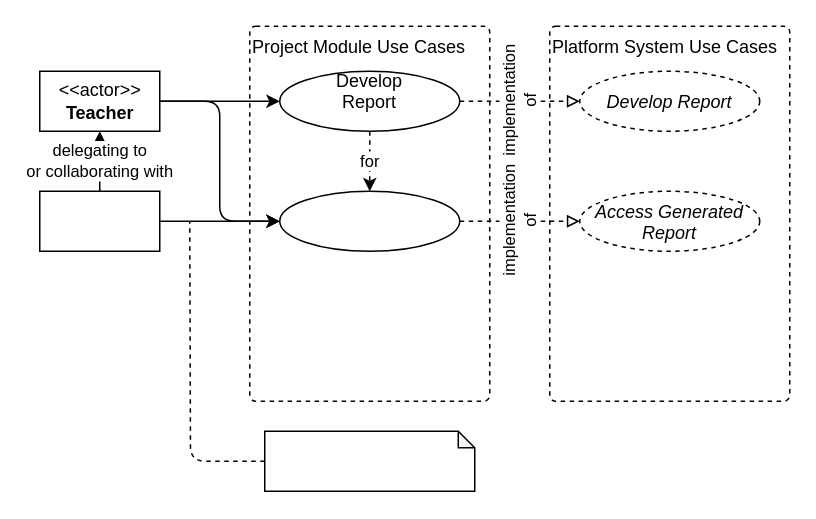
Image size: 816x519. Some labels were removed from this diagram. The shapes that lost their labels are listed below. From the top down, each one's centre as x and y in pixels, then its label:
At point (99, 220): "<<actor>> Whānau".
At point (369, 220): "Access Report".
At point (369, 460): "Note: Reports can be accessed in-system by non Users via notified Invitation".
